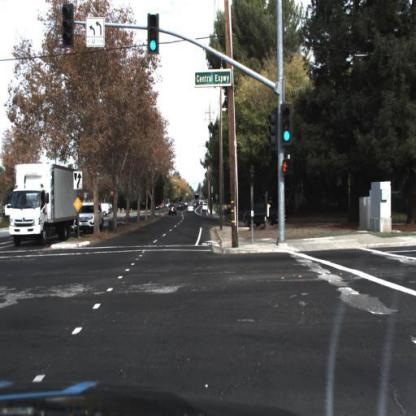car: (243, 201, 283, 231), (76, 199, 103, 235), (98, 200, 112, 216)
trafficLight-Green: (148, 14, 160, 56), (283, 103, 292, 144)
truck: (10, 164, 79, 248)
